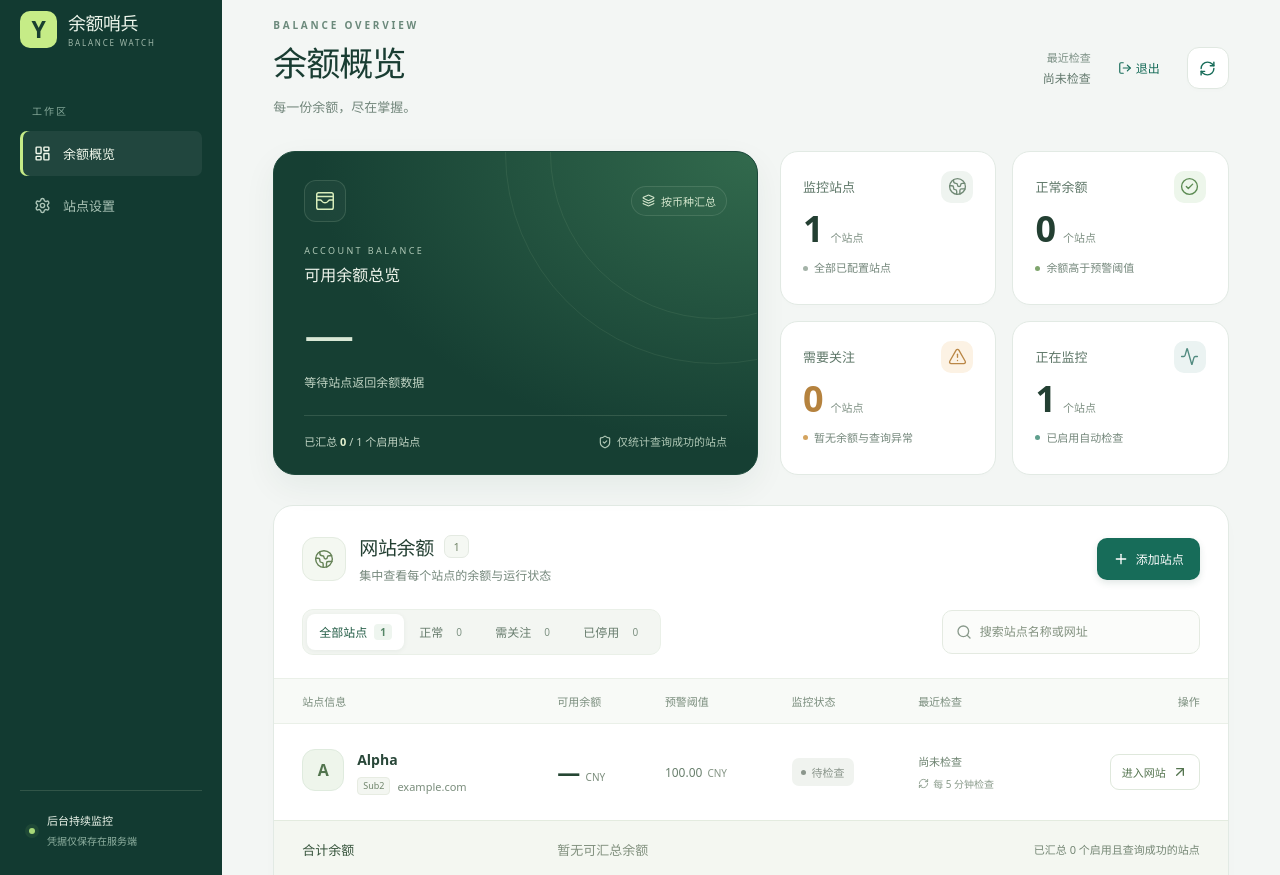
Scenario: React 页面流程 › 编辑并保存配置，保留已保存的 Token
Click the button "Alpha" at coordinates (377, 759), box [357, 749, 398, 770]
(page scrolled)
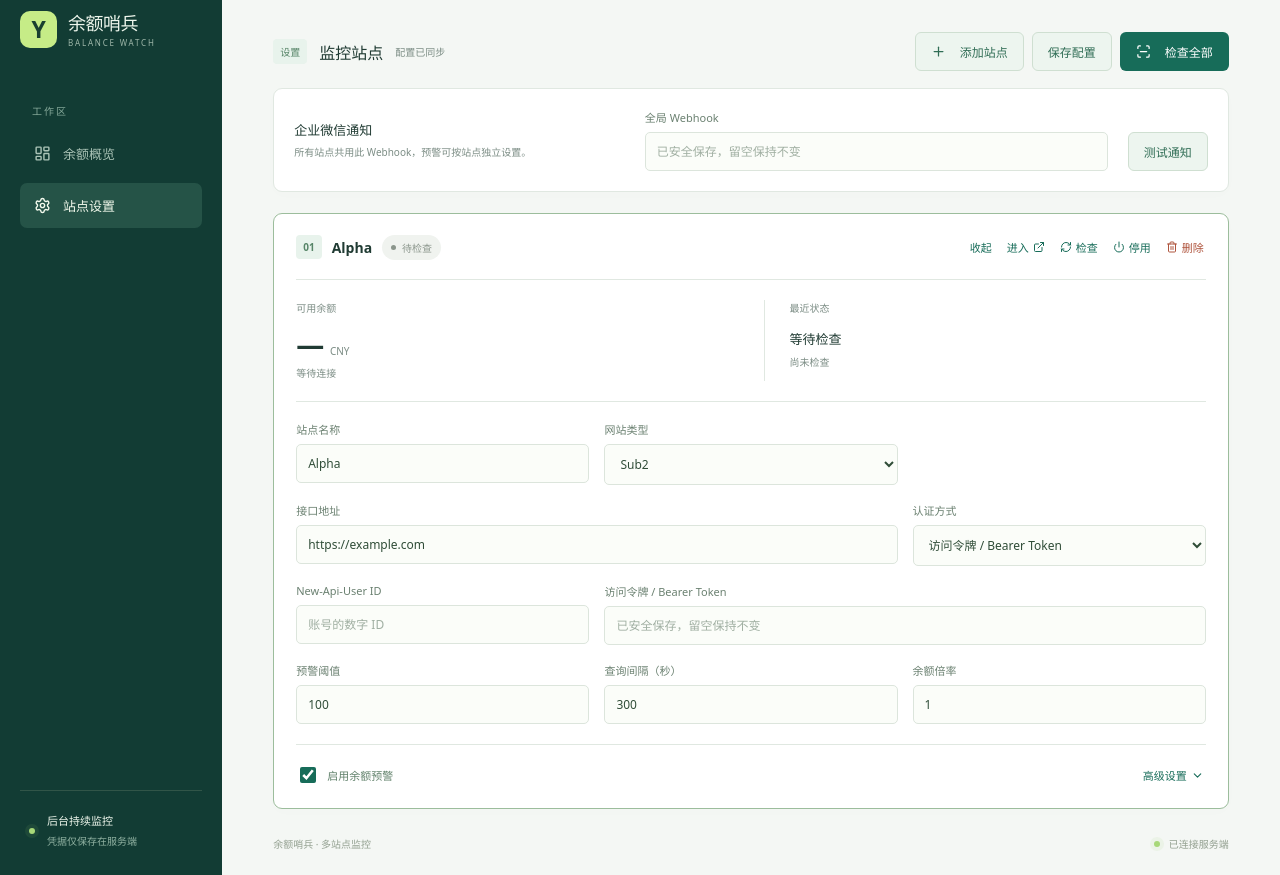
Clear the field labelled "站点名称" at coordinates (443, 464), box [296, 444, 589, 483]
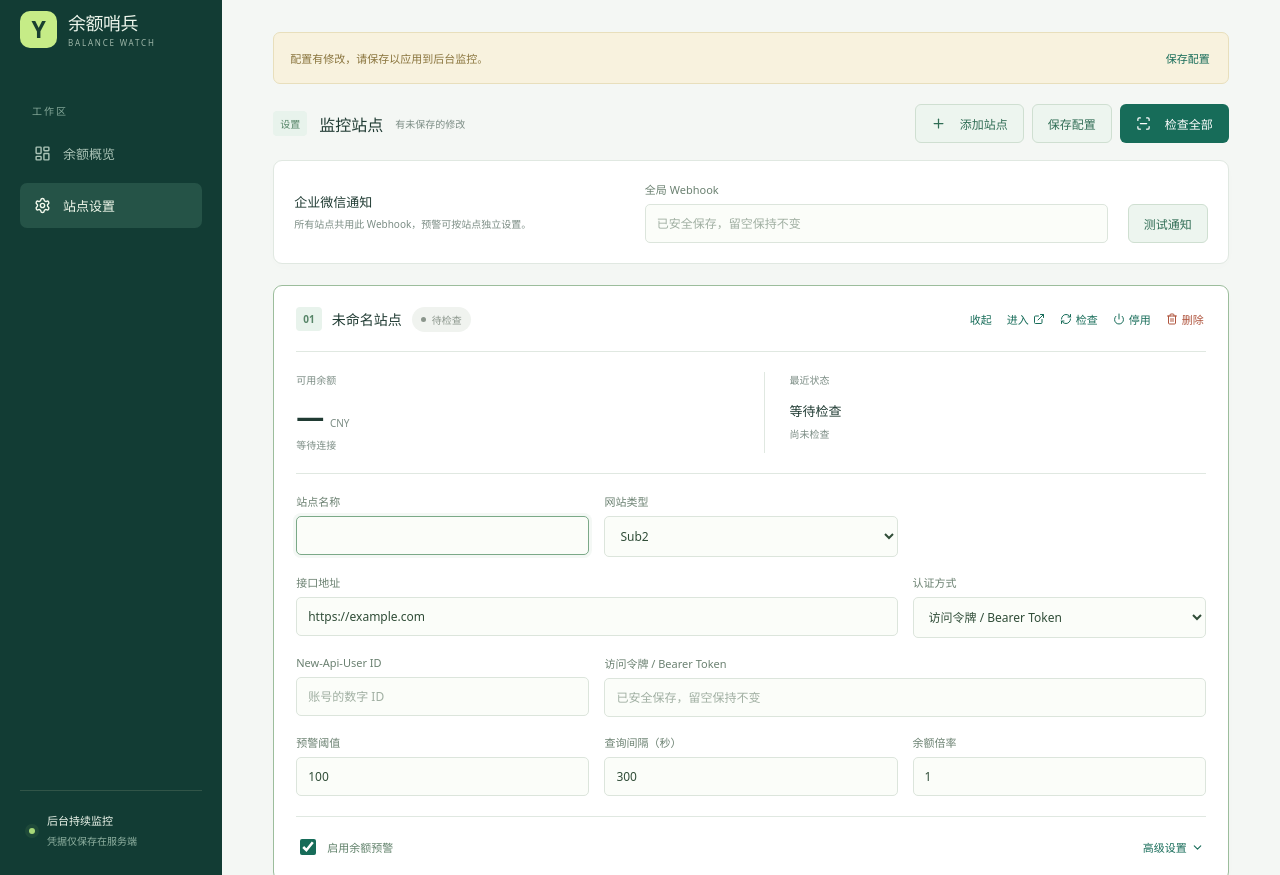
Type "新站点" into the field labelled "站点名称" at coordinates (443, 536), box [296, 516, 589, 555]
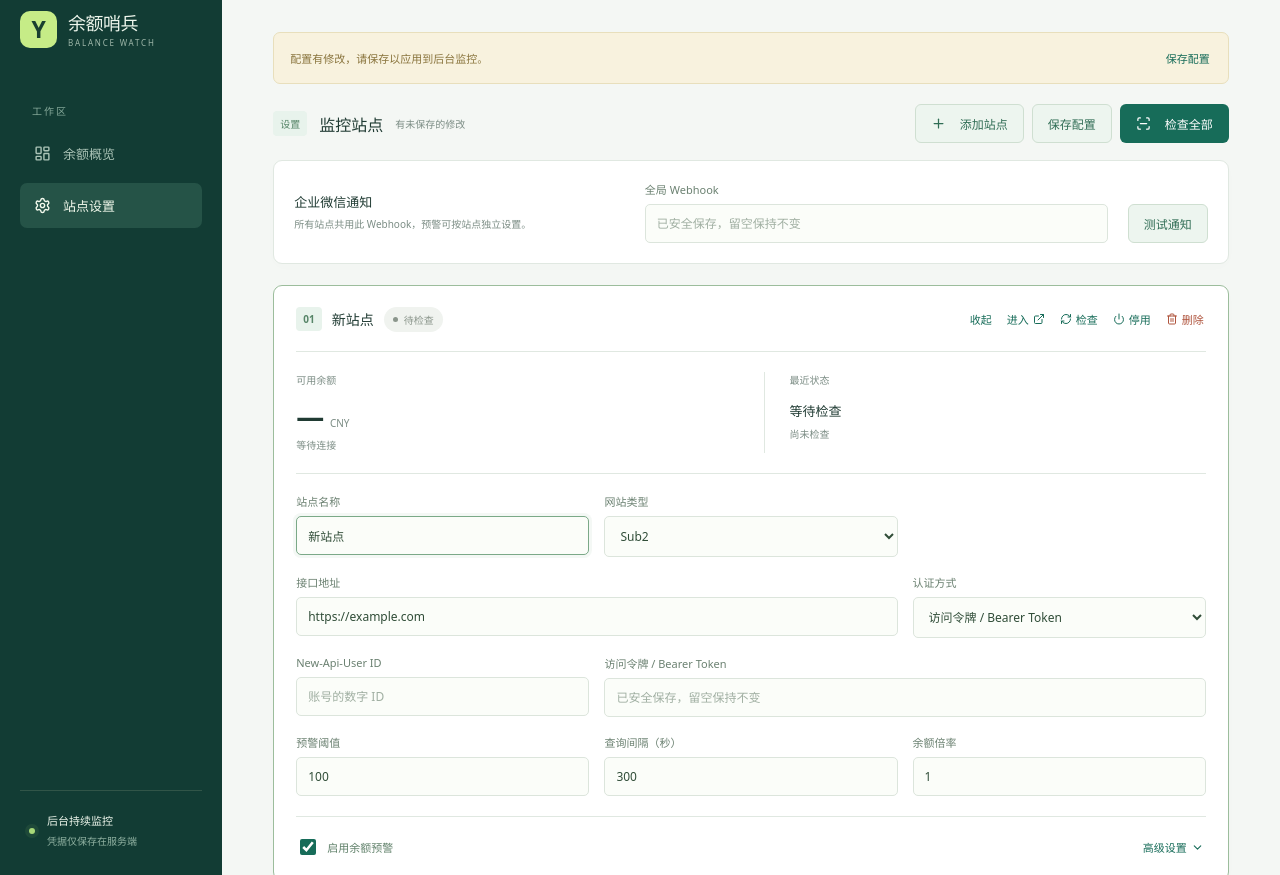
Expected: the password field labelled "访问令牌 / Bearer Token" has attribute placeholder="已安全保存，留空保持不变", [604, 678, 1206, 717]
Click the button "保存配置" in the row of "配置有修改，请保存以应用到后台监控。" at coordinates (1188, 58), box [1164, 45, 1212, 71]
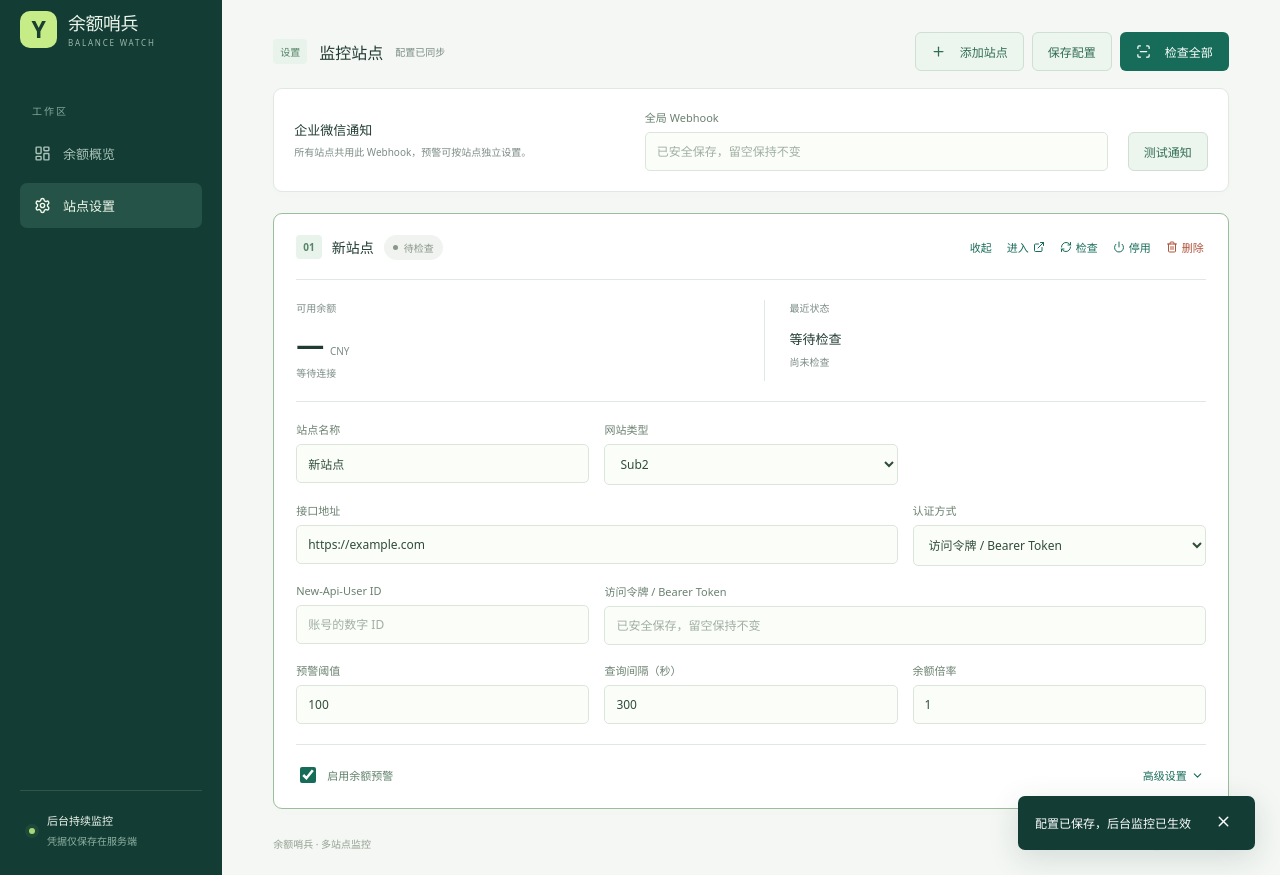
Expected: the text "配置已保存，后台监控已生效" is shown, [1018, 796, 1255, 850]
Expected: the text "配置有修改，请保存以应用到后台监控。" is gone
